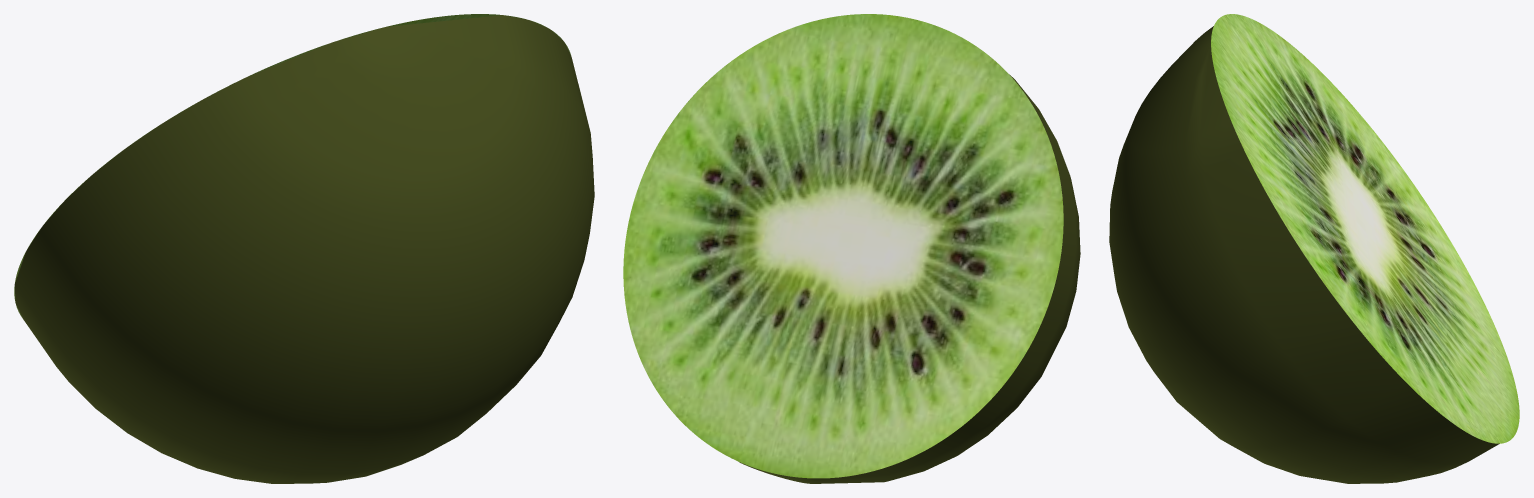
File: mihoutao.fbx
3 renders of one model, left to right at view 1: azimuth 30°, elevation 25°; view 2: azimuth 150°, elevation 25°; view 3: azimuth 270°, elevation 25°, orthographic. The views are drawn at different scales.
Parts seen in each view (by area): view 1: polySurface3, polySurface4; view 2: polySurface4, polySurface3; view 3: polySurface3, polySurface4.
Boxes of the visible parts, x1,y1,x2,y2 form: polySurface3: [14, 15, 594, 483]; polySurface4: [14, 14, 571, 318]; polySurface4: [623, 14, 1063, 478]; polySurface3: [739, 74, 1080, 483]; polySurface3: [1109, 26, 1499, 483]; polySurface4: [1211, 14, 1519, 443].
Bounding box in the file's own units: 2 × 1.6 × 1.8.
Materials: 2 (1 with a texture image).
